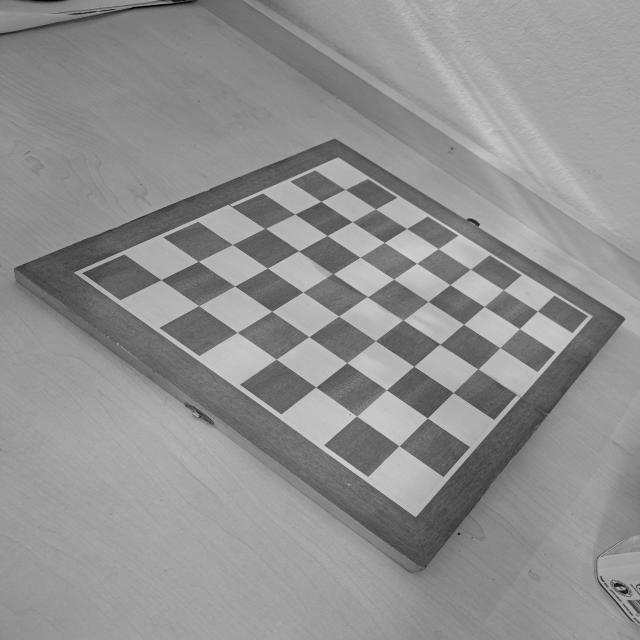chess-table-corners: (398, 498, 429, 520), (70, 264, 96, 282), (580, 312, 595, 322), (332, 156, 345, 166)
